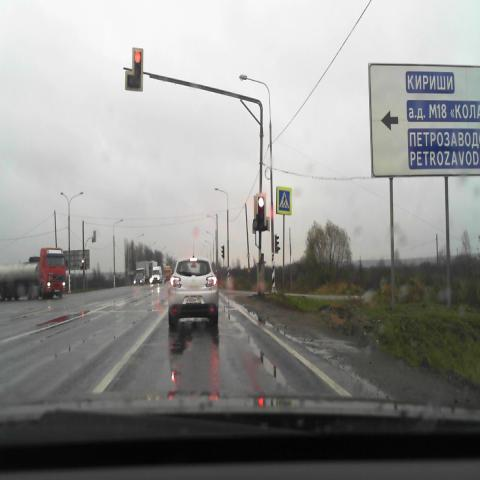5_19_1: (276, 186, 292, 215)
